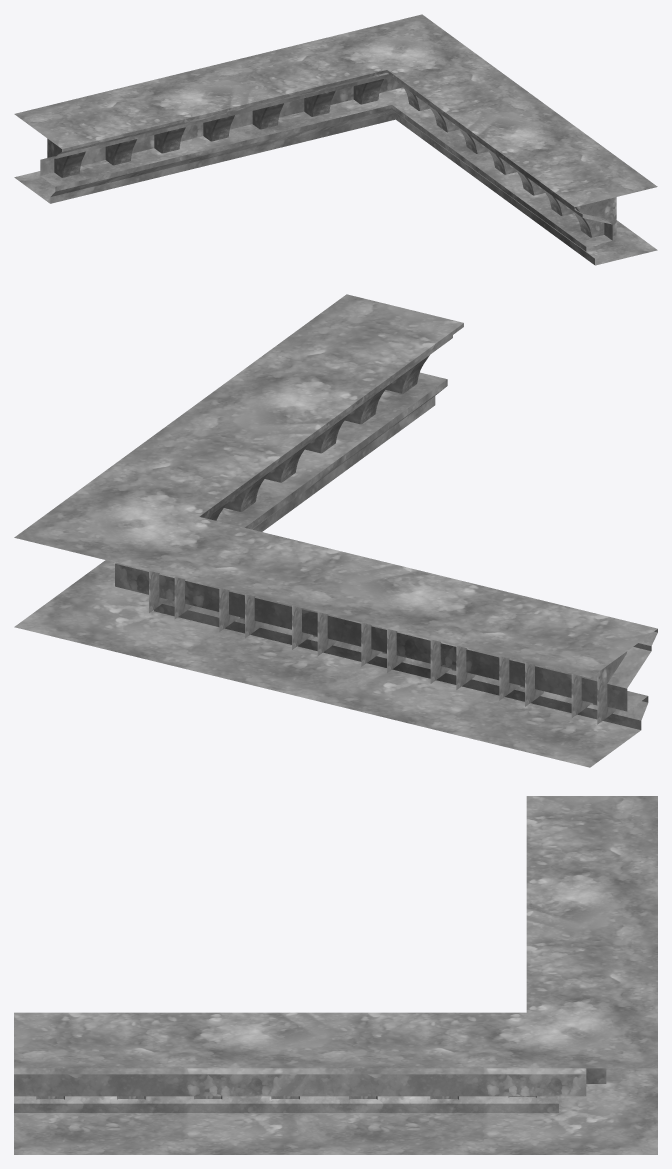
Rendered from SM_WallTrim_01c.fbx.
3 renders of one model, top to bottom at view 1: azimuth 30°, elevation 25°; view 2: azimuth 150°, elevation 25°; view 3: azimuth 270°, elevation 25°, orthographic. The views are drawn at different scales.
Parts seen in each view (by area): view 1: SM_WallTrim_01c_LOD0; view 2: SM_WallTrim_01c_LOD0; view 3: SM_WallTrim_01c_LOD0.
Boxes of the visible parts, <box> form: SM_WallTrim_01c_LOD0: <box>14,14,657,265</box>; SM_WallTrim_01c_LOD0: <box>14,294,657,767</box>; SM_WallTrim_01c_LOD0: <box>14,796,657,1154</box>.
Size of the model in its own units: 355 by 355 by 52.59.
